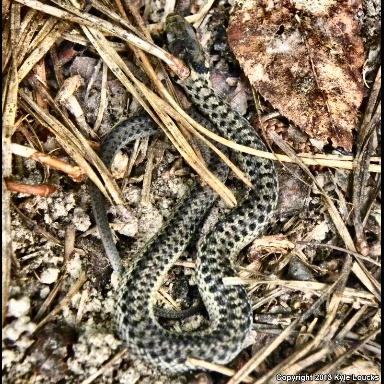snake: (99, 111, 279, 375), (165, 13, 268, 152)
